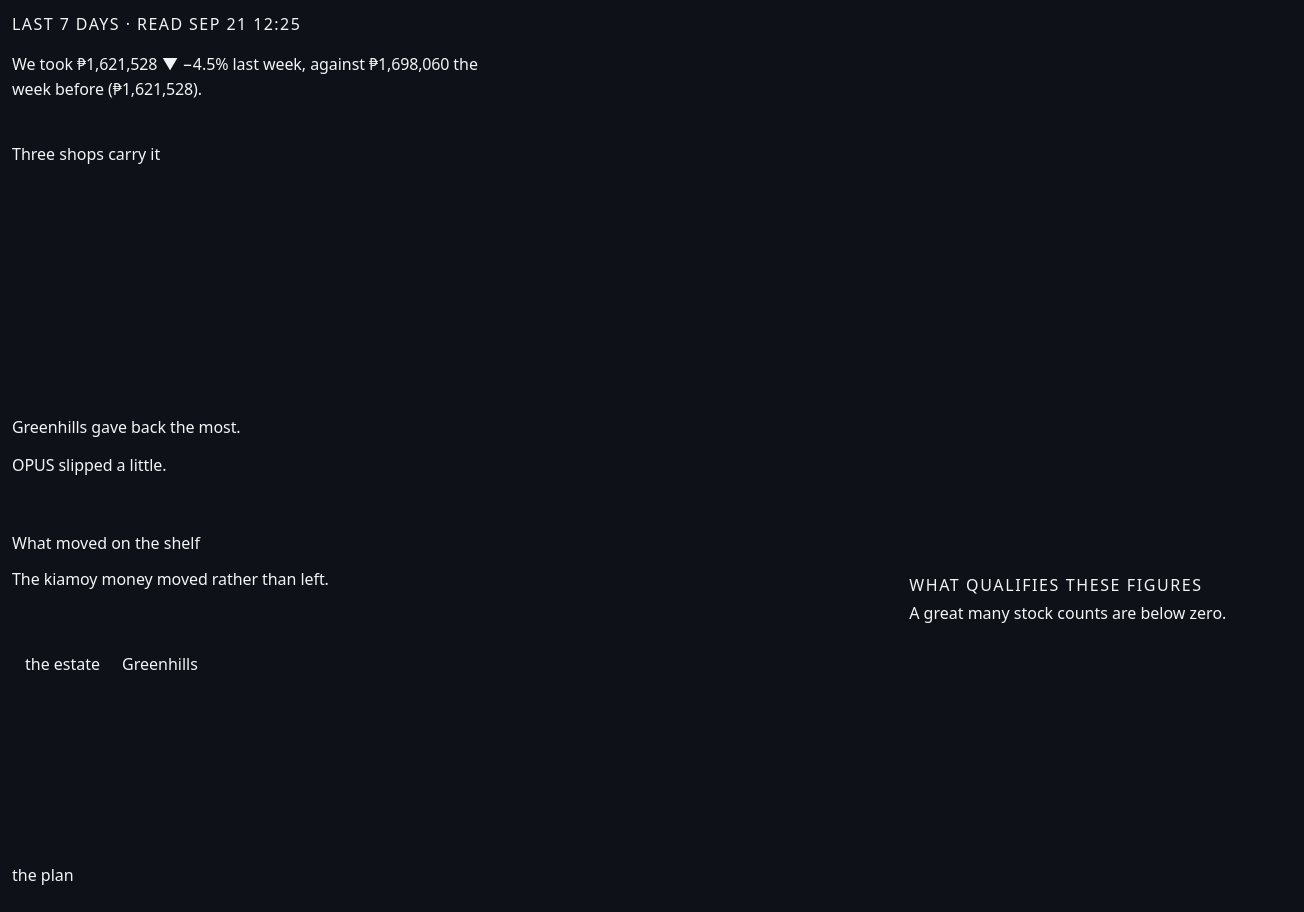
it: a figure inside a sentence › opens its receipt where it was tapped, with the time it was read (UI rules 3 and 6)
The width and height of the screenshot is (1304, 912).
Click the button with class "r-inl" next to "−4.5%".
click(117, 64)  # box x1=77 y1=52 x2=157 y2=77
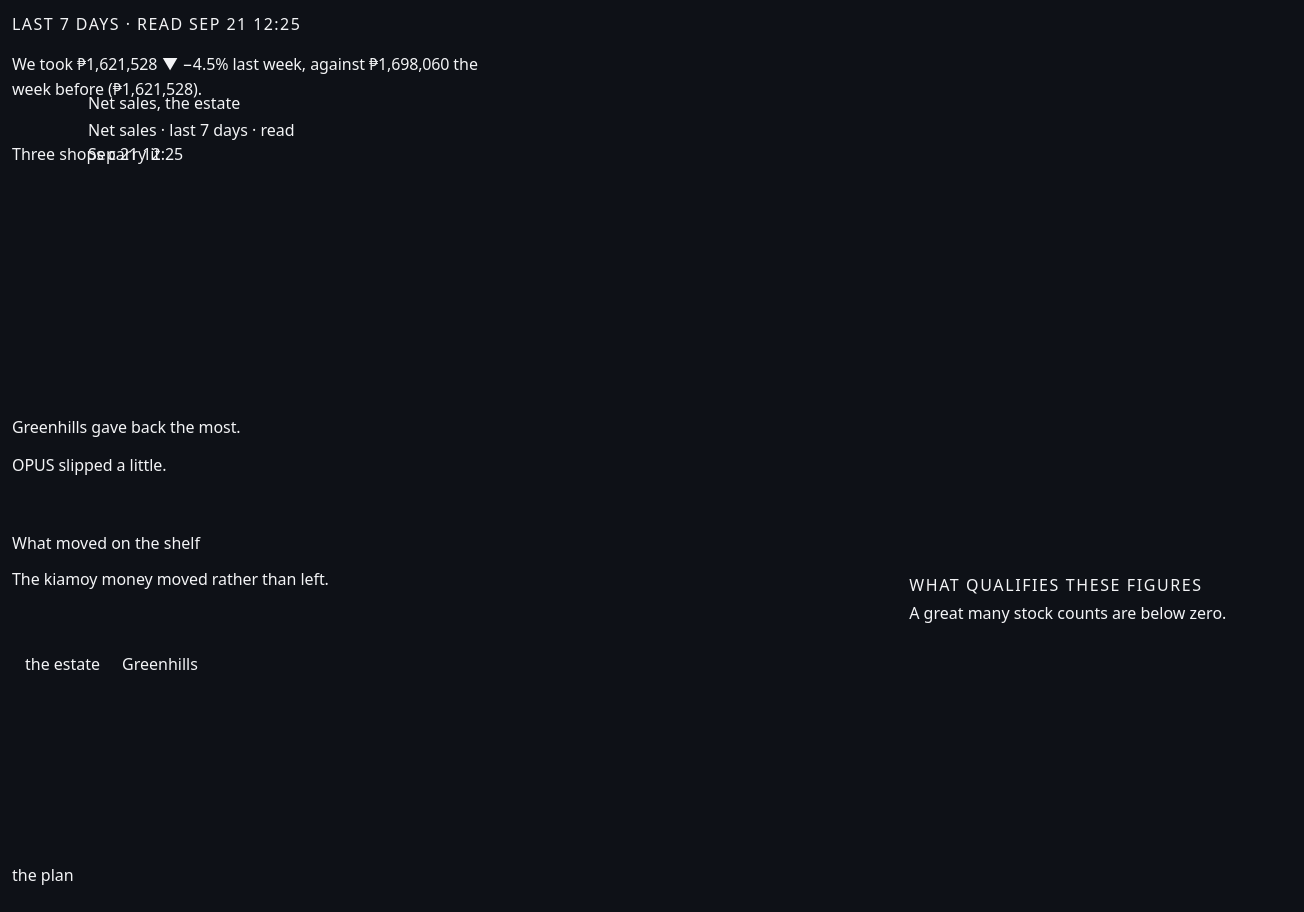
Result: the element with class "r-inl-receipt" shows "Net sales, the estate" at x1=88 y1=92 x2=240 y2=114
Result: the element with class "r-inl-receipt" reads "Net sales, the estate Net sales · last 7 days · read Sep 21 12:25" at x1=88 y1=119 x2=295 y2=165
Click the button with class "r-inl" showing "₱1,621,528".
click(117, 64)  # box x1=77 y1=52 x2=157 y2=77
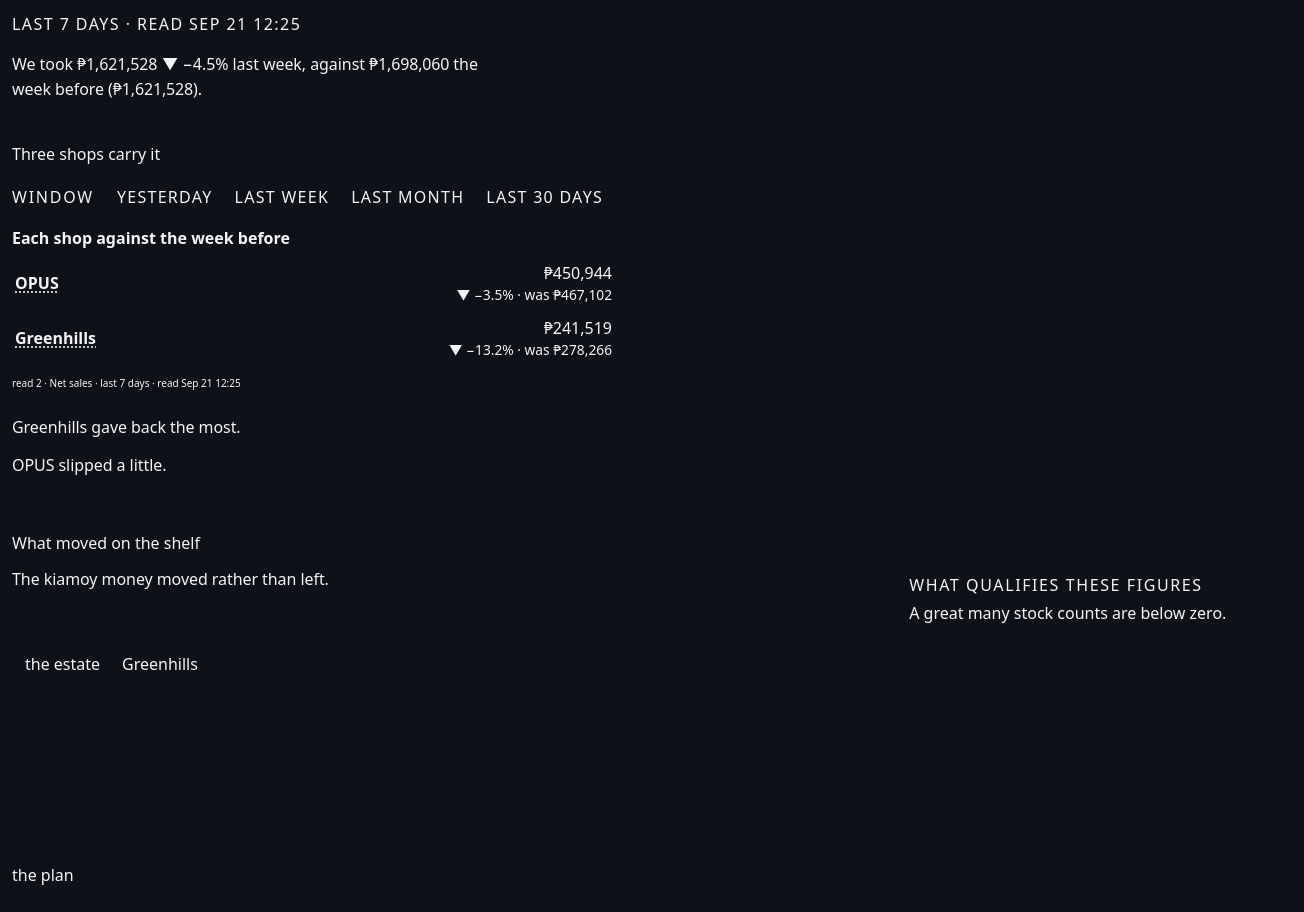
Result: the element with class "r-inl-receipt" is gone
